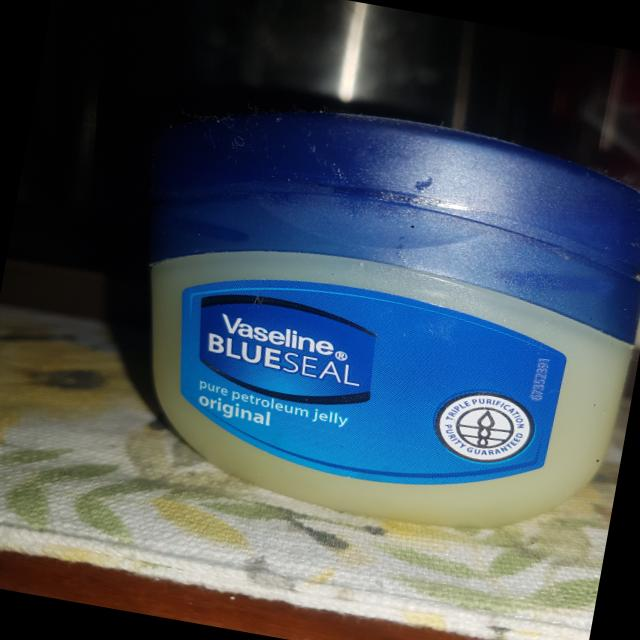general: (93, 74, 640, 558)
